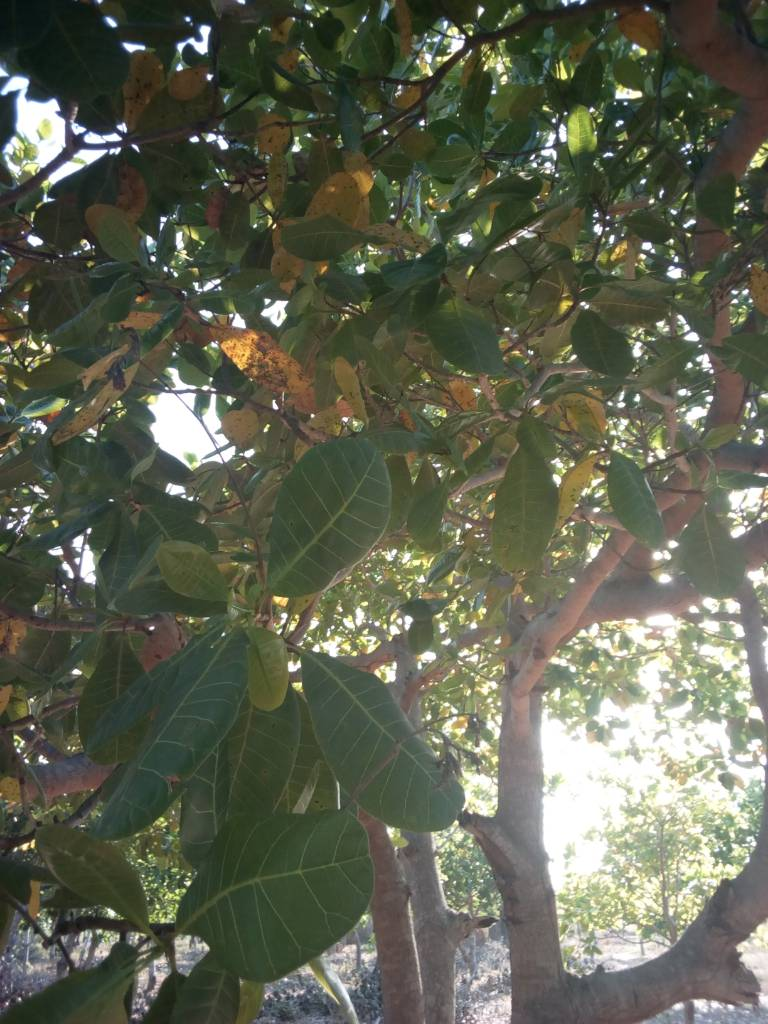Bactériose: (205, 321, 315, 408)
